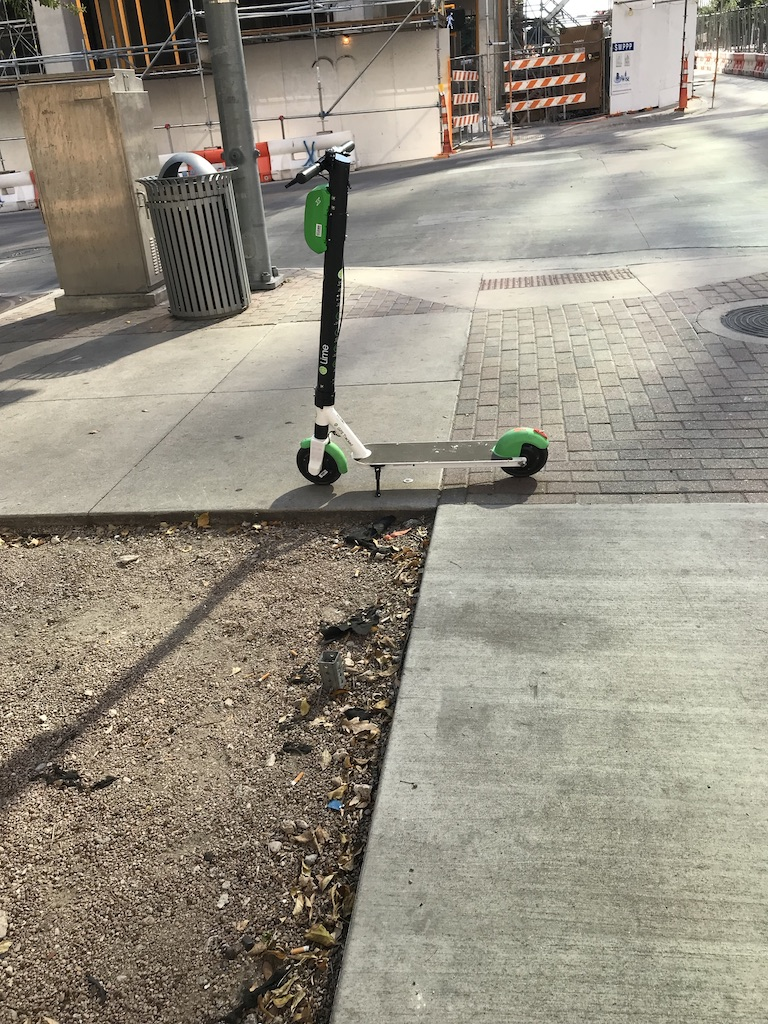scooter: (288, 140, 550, 490)
